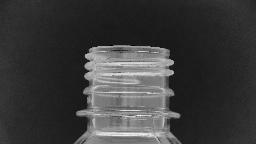No Cap: (72, 40, 184, 122)
